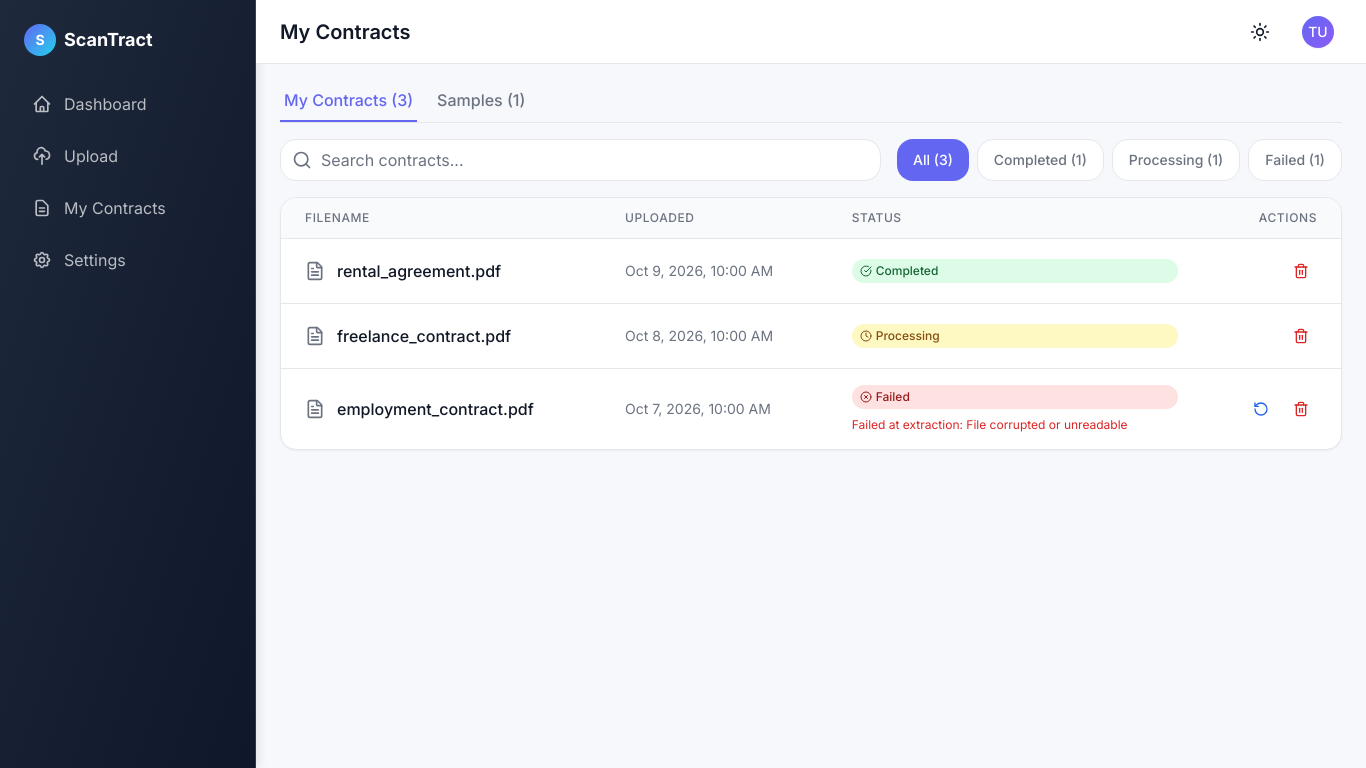
Test: ContractsPage › filters by status chip
Note: Click 'Completed' filter
Click the button "Completed (1)" at (1040, 160), box [977, 139, 1104, 181]
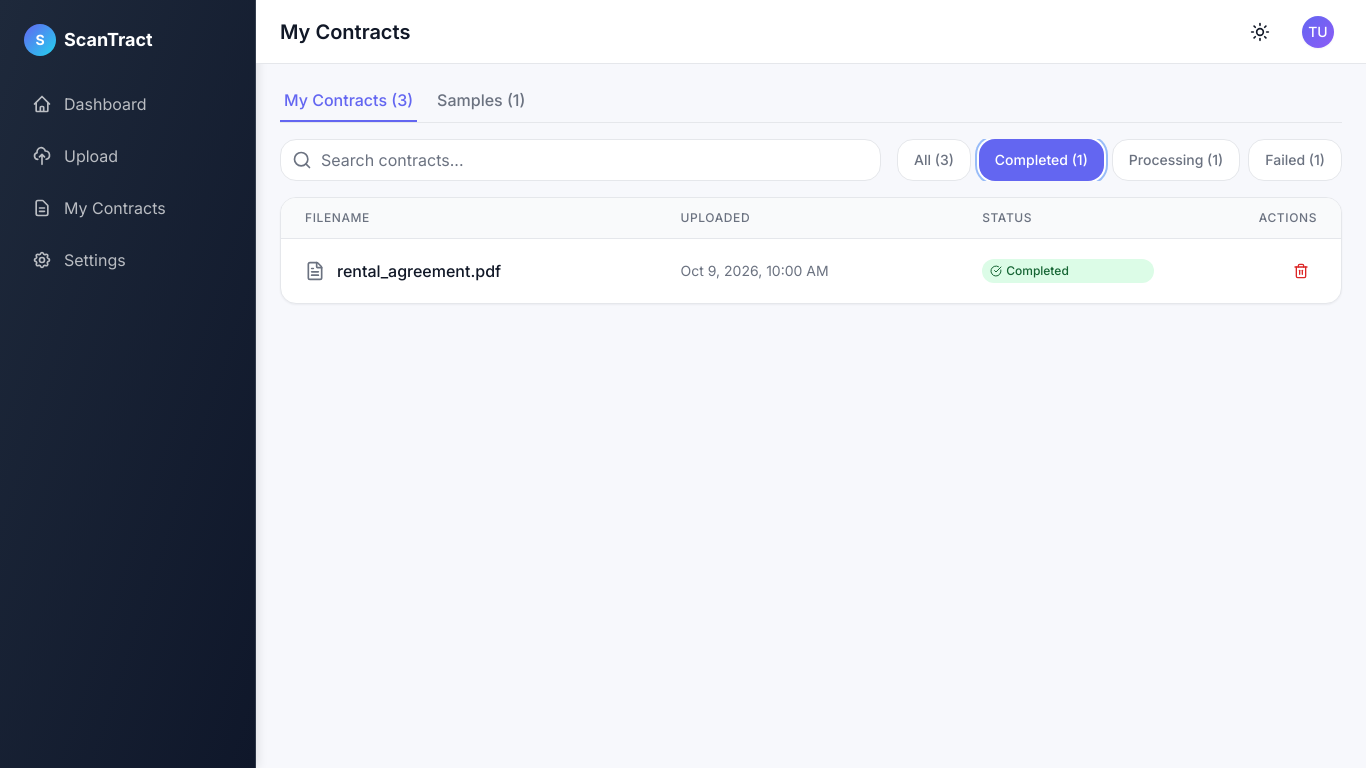
expect the button "freelance_contract.pdf" is gone: met
expect the button "employment_contract.pdf" is gone: met
